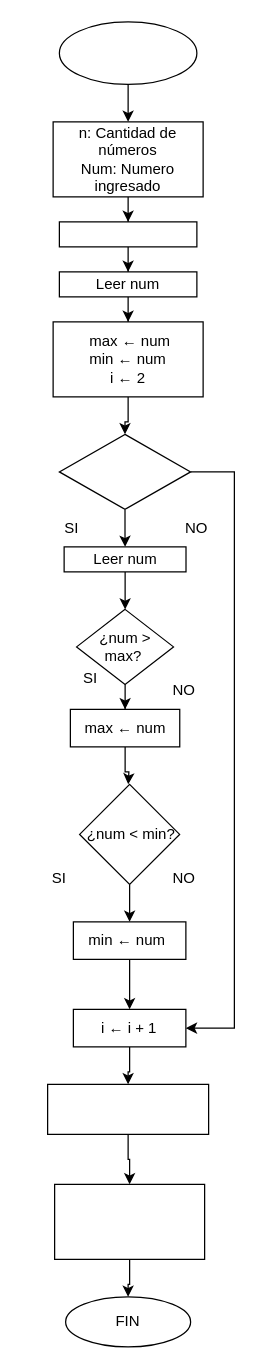
This 266x1369 diagram has some shape labels left out. Here are the shapes that lost their labels. From the top down, the centre of each, then its label:
At [127,52]: "INICIO".
At [127,234]: "Leer n".
At [124,471]: "¿i ≤ n?".
At [127,1108]: "suma ← max+min".
At [129,1221]: "Mostrar max Mostrar min Mostrar suma".
